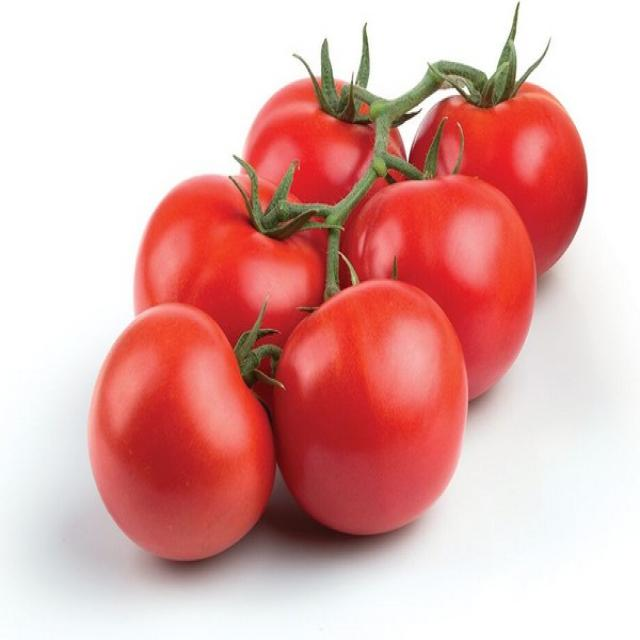tomato: (84, 306, 285, 564), (278, 281, 470, 534)
